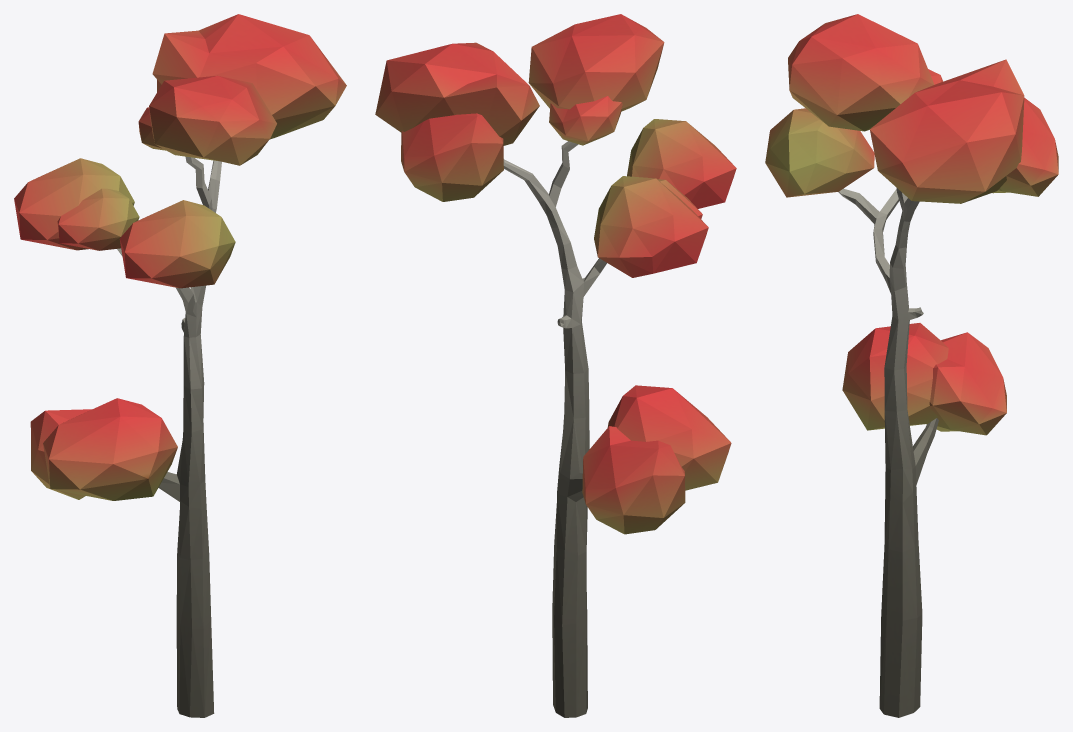
Rendered from ZLP_Plant_E_5.FBX.
3 renders of one model, left to right at view 1: azimuth 30°, elevation 25°; view 2: azimuth 150°, elevation 25°; view 3: azimuth 270°, elevation 25°, orthographic. The views are drawn at different scales.
Parts seen in each view (by area): view 1: ZLP_Plant_E_5; view 2: ZLP_Plant_E_5; view 3: ZLP_Plant_E_5.
Boxes of the visible parts, x1,y1,x2,y2 form: ZLP_Plant_E_5: (14, 14, 346, 717); ZLP_Plant_E_5: (375, 14, 736, 717); ZLP_Plant_E_5: (765, 14, 1058, 717).
Size of the model in its own units: 329 by 647 by 255.
